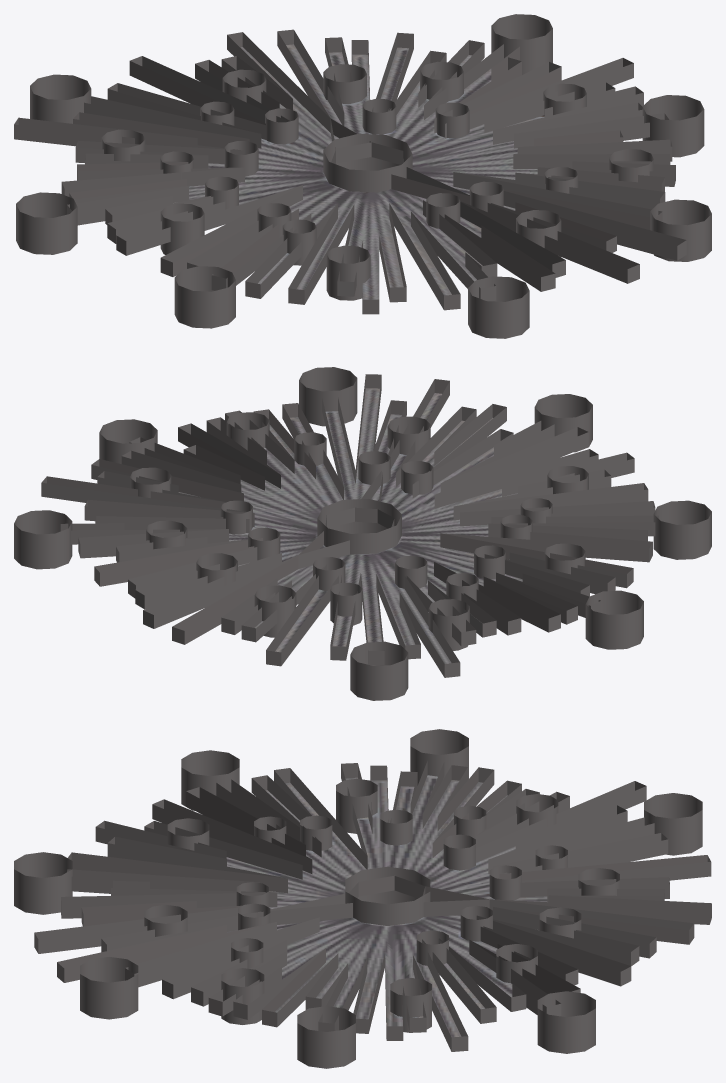
File: nt_2020_wall_art_prop_02_LOD0.obj
3 views of the same model, one above another, from view 1: azimuth 30°, elevation 25°; view 2: azimuth 150°, elevation 25°; view 3: azimuth 270°, elevation 25° (orthographic). The views are drawn at different scales.
Visible parts, largest first — view 1: mtl_nt_2020_wall_art_02; view 2: mtl_nt_2020_wall_art_02; view 3: mtl_nt_2020_wall_art_02.
Part boxes in pixels (<box>): mtl_nt_2020_wall_art_02: <box>14,14,711,338</box>; mtl_nt_2020_wall_art_02: <box>14,367,711,700</box>; mtl_nt_2020_wall_art_02: <box>14,729,711,1068</box>.
Size of the model in its own units: 110 by 8.14 by 107.
